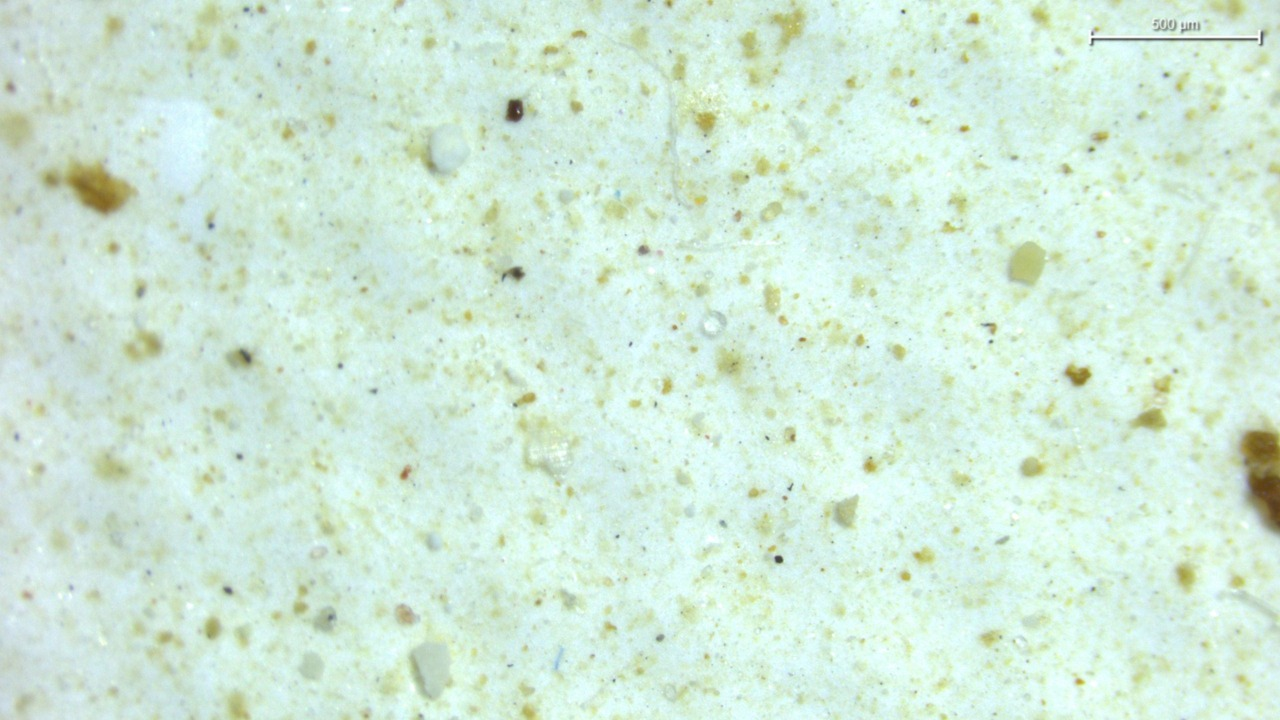microplastic_fragment: (517, 406, 579, 477)
